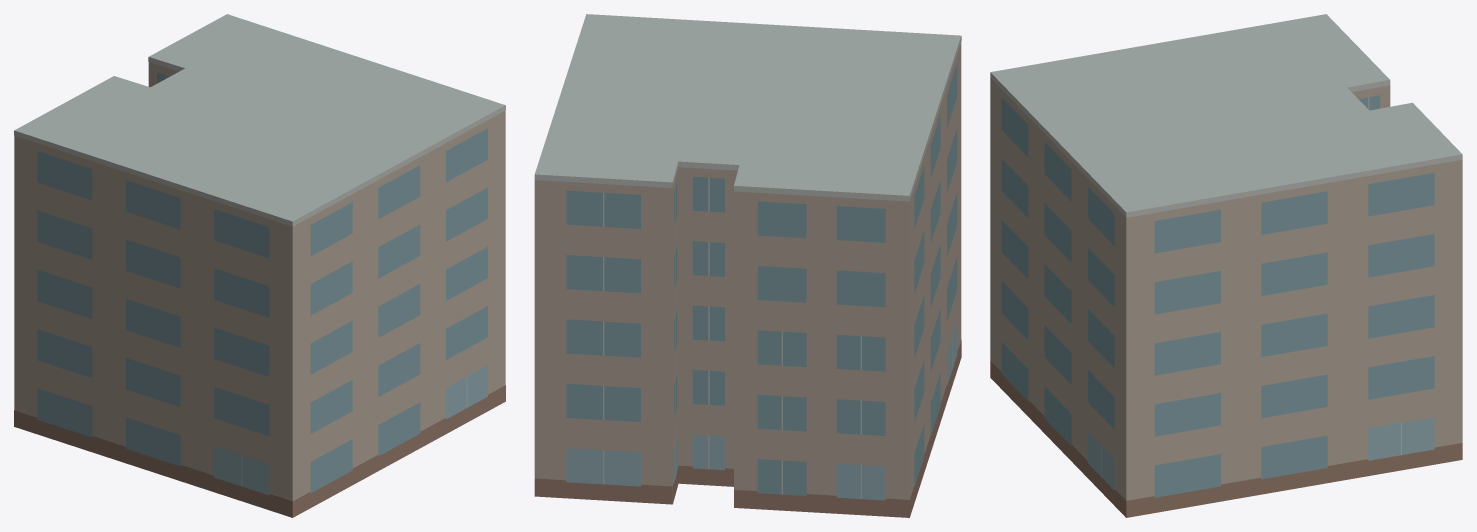
File: survey-upis-32933131.glb
3 views of the same model, side by side, from view 1: azimuth 30°, elevation 25°; view 2: azimuth 150°, elevation 25°; view 3: azimuth 270°, elevation 25° (orthographic). The views are drawn at different scales.
Visible parts, largest first — view 1: survey-upis-32933131.tmp; view 2: survey-upis-32933131.tmp; view 3: survey-upis-32933131.tmp.
Boxes of the visible parts, x1,y1,x2,y2 form: survey-upis-32933131.tmp: [14, 14, 505, 517]; survey-upis-32933131.tmp: [534, 14, 961, 517]; survey-upis-32933131.tmp: [990, 14, 1462, 517].
Bounding box in the file's own units: 19.38 × 13.9 × 19.49.
